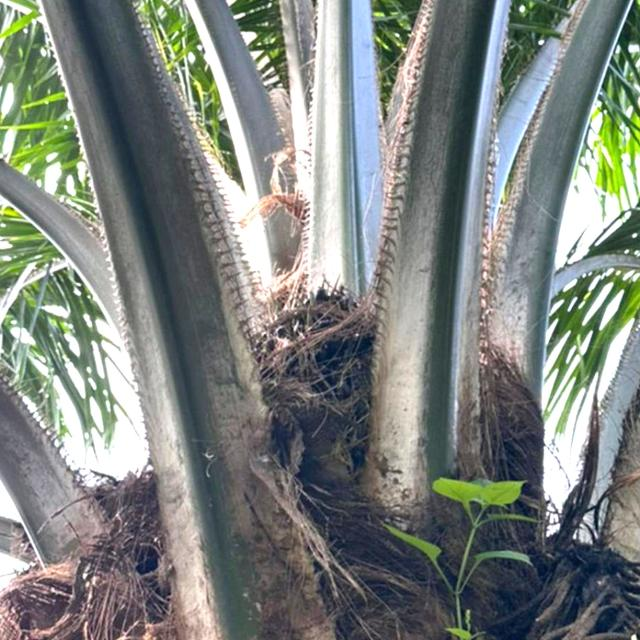unripe: (212, 279, 552, 556)
